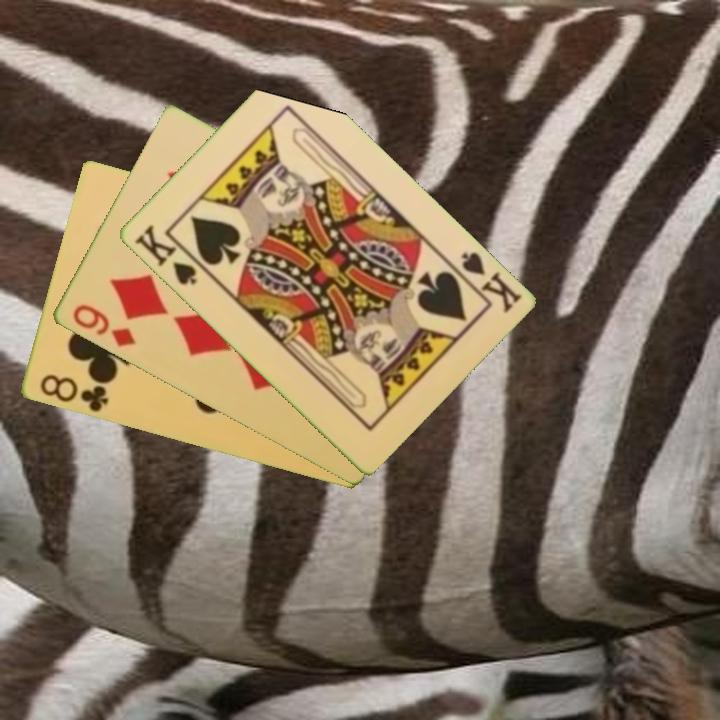8c: (36, 371, 111, 415)
9d: (68, 301, 139, 350)
Ks: (446, 248, 524, 317), (130, 221, 199, 288)
